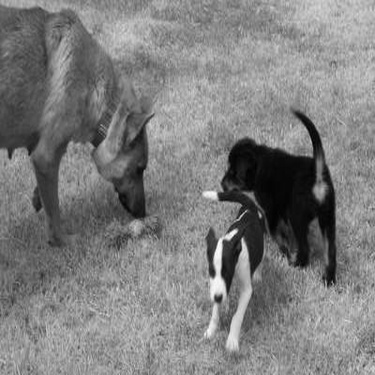dog: (1, 1, 161, 255), (219, 96, 341, 291), (191, 181, 269, 362)
